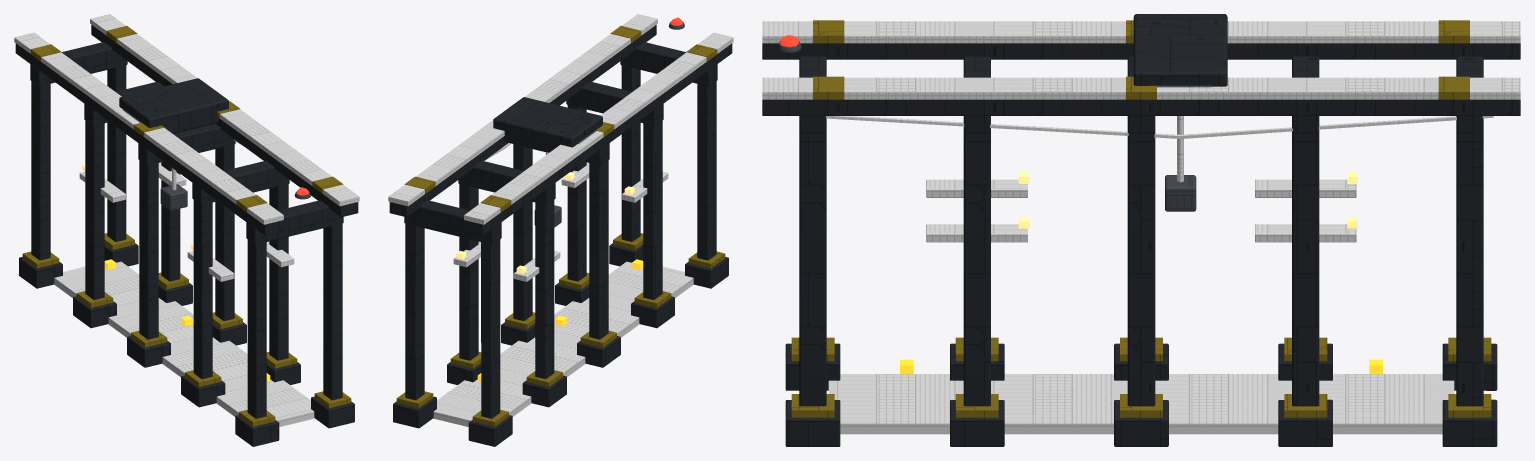
File: place_maintenance_gantry.glb
3 views of the same model, side by side, from view 1: azimuth 30°, elevation 25°; view 2: azimuth 150°, elevation 25°; view 3: azimuth 270°, elevation 25° (orthographic). The views are drawn at different scales.
Visible parts, largest first — view 1: LOD0_Armor, LOD0_MechanicalDark, LOD1_MechanicalDark, LOD0_Warning, LOD1_Armor, LOD1_Warning, LOD0_Mechanical; view 2: LOD0_Armor, LOD0_MechanicalDark, LOD1_MechanicalDark, LOD0_Warning, LOD1_Armor, LOD1_Warning; view 3: LOD0_Armor, LOD0_MechanicalDark, LOD1_MechanicalDark, LOD0_Warning, LOD1_Warning, LOD1_Armor, LOD0_Mechanical.
Boxes of the visible parts, x1=… form: LOD0_Armor: x1=15, y1=25, x2=358, y2=446; LOD0_MechanicalDark: x1=14, y1=14, x2=359, y2=426; LOD1_MechanicalDark: x1=14, y1=14, x2=359, y2=426; LOD0_Warning: x1=22, y1=26, x2=351, y2=426; LOD1_Armor: x1=16, y1=48, x2=344, y2=445; LOD1_Warning: x1=23, y1=26, x2=351, y2=425; LOD0_Mechanical: x1=123, y1=109, x2=310, y2=210; LOD0_Armor: x1=389, y1=25, x2=732, y2=446; LOD0_MechanicalDark: x1=388, y1=14, x2=733, y2=426; LOD1_MechanicalDark: x1=389, y1=14, x2=732, y2=426; LOD0_Warning: x1=396, y1=26, x2=725, y2=426; LOD1_Armor: x1=394, y1=49, x2=711, y2=445; LOD1_Warning: x1=396, y1=26, x2=724, y2=426; LOD0_Armor: x1=762, y1=14, x2=1520, y2=446; LOD0_MechanicalDark: x1=762, y1=21, x2=1520, y2=434; LOD1_MechanicalDark: x1=762, y1=21, x2=1520, y2=434; LOD0_Warning: x1=791, y1=20, x2=1491, y2=417; LOD1_Warning: x1=791, y1=20, x2=1491, y2=417; LOD1_Armor: x1=785, y1=14, x2=1497, y2=446; LOD0_Mechanical: x1=777, y1=41, x2=1211, y2=211.
Size of what is drawn, in the model's own units: 4.6 by 10.56 by 19.4.
Materials: 7 (4 with a texture image).
